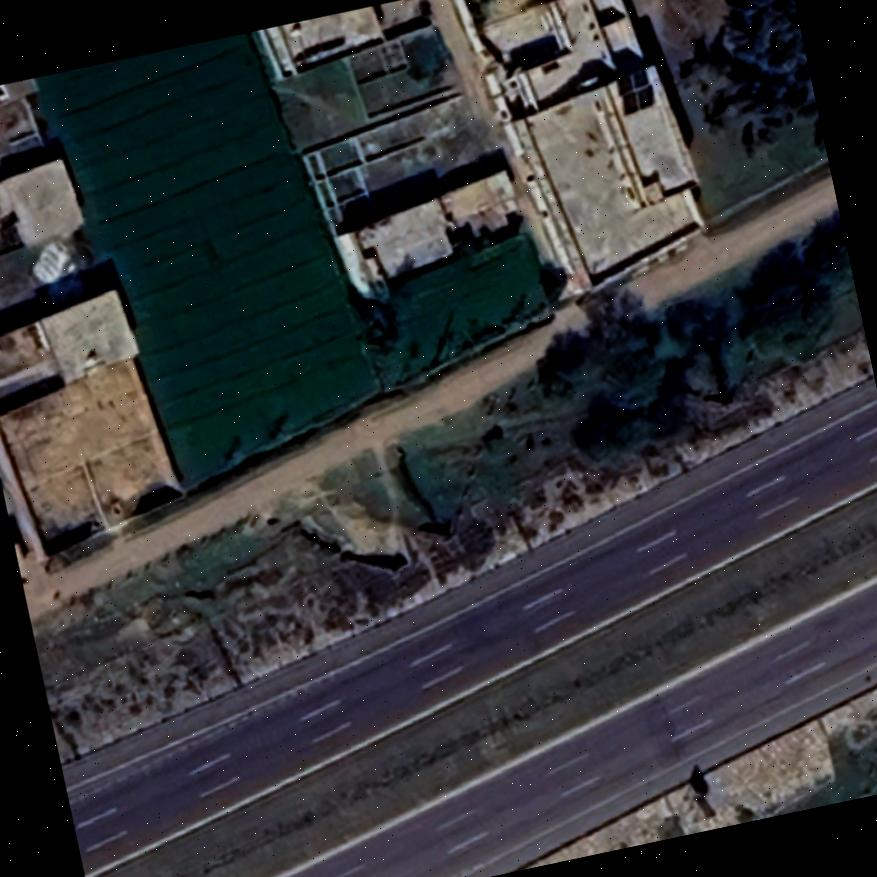Solarpanel: (610, 62, 660, 118)
